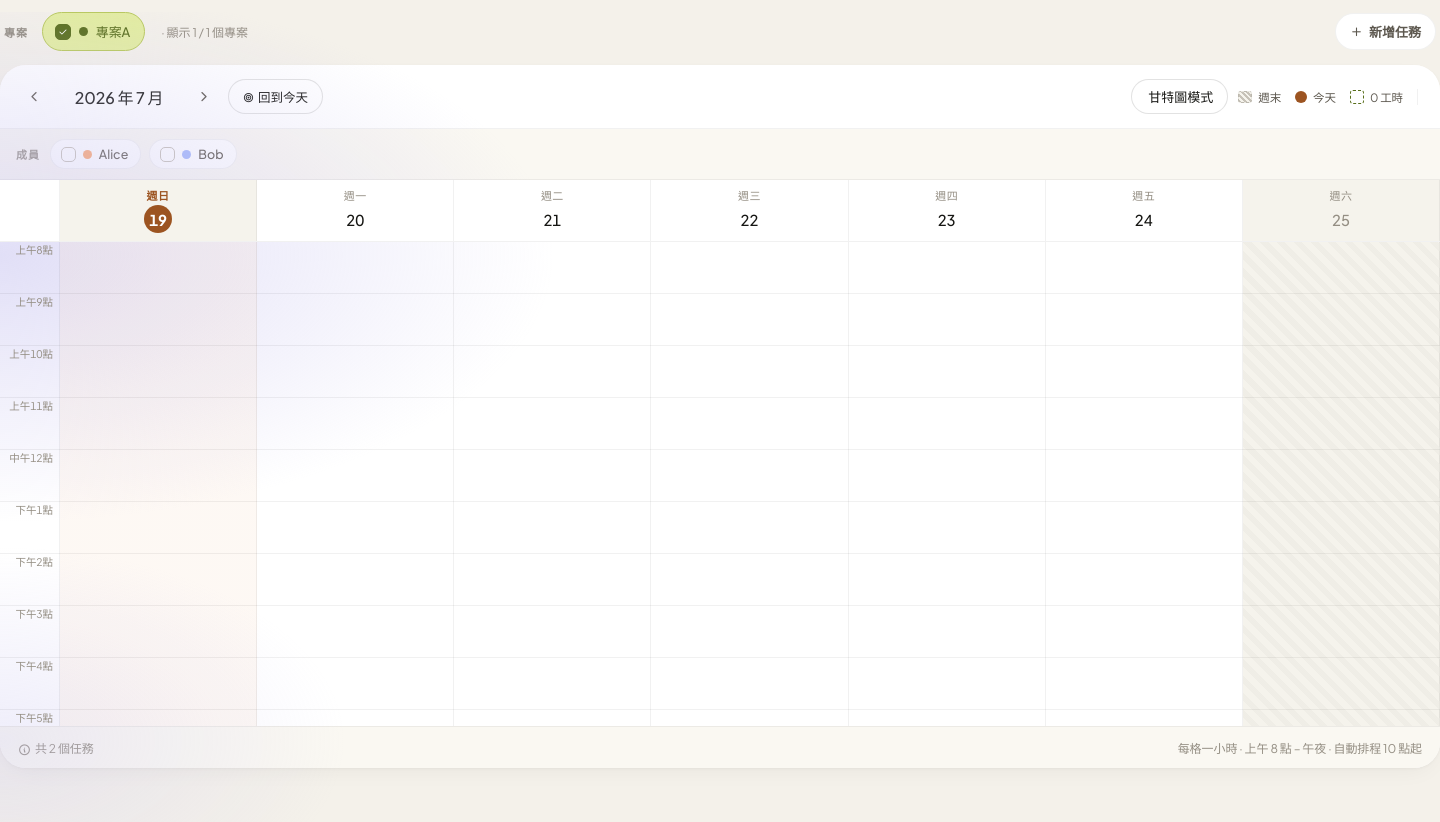
Test: 甘特圖 Phase→成員 列顯示 (normal mode) › 相位合併格顯示相位名稱 (PH 的 n)
The width and height of the screenshot is (1440, 822).
Click the button "甘特圖模式": [1180, 96] box x1=1131 y1=79 x2=1228 y2=114
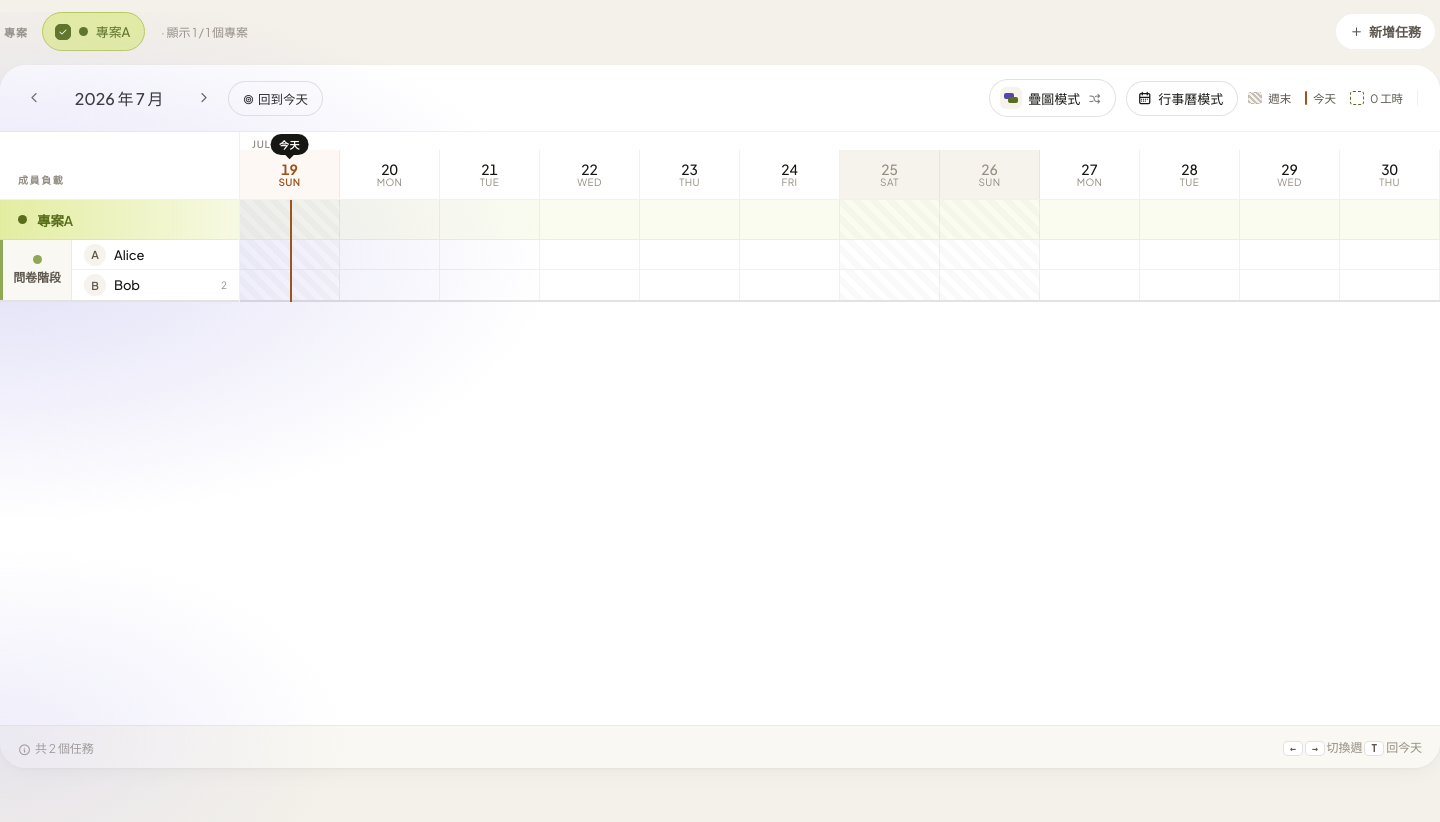
Now the element showing "問卷階段" is shown, box x1=0 y1=240 x2=72 y2=300
